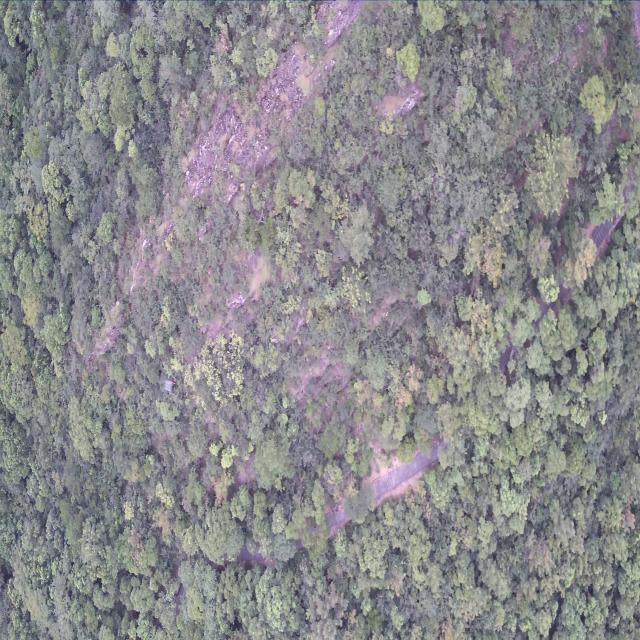drone: (164, 378, 176, 397)
